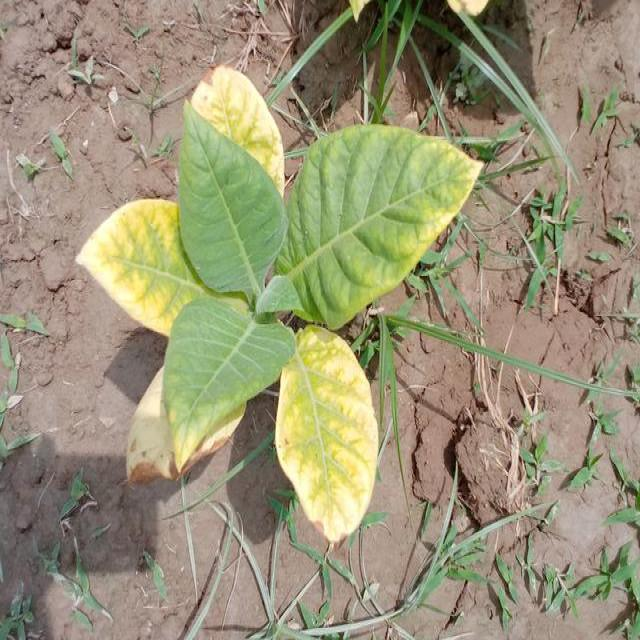crop: (102, 78, 462, 518)
